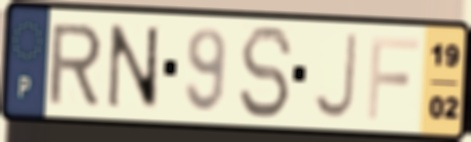9: (182, 25, 230, 115)
F: (364, 33, 422, 123)
J: (309, 30, 360, 122)
N: (106, 20, 162, 112)
R: (46, 20, 105, 107)
S: (236, 24, 296, 123)
